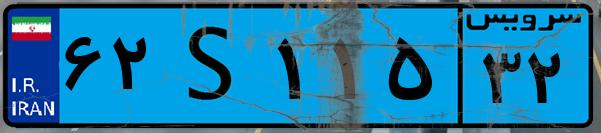1: (270, 28, 330, 110), (330, 28, 385, 110)
2: (525, 38, 570, 115), (110, 28, 158, 98)
3: (475, 38, 525, 113)
5: (385, 28, 445, 110)
6: (57, 26, 110, 100)
S: (158, 12, 270, 120)
